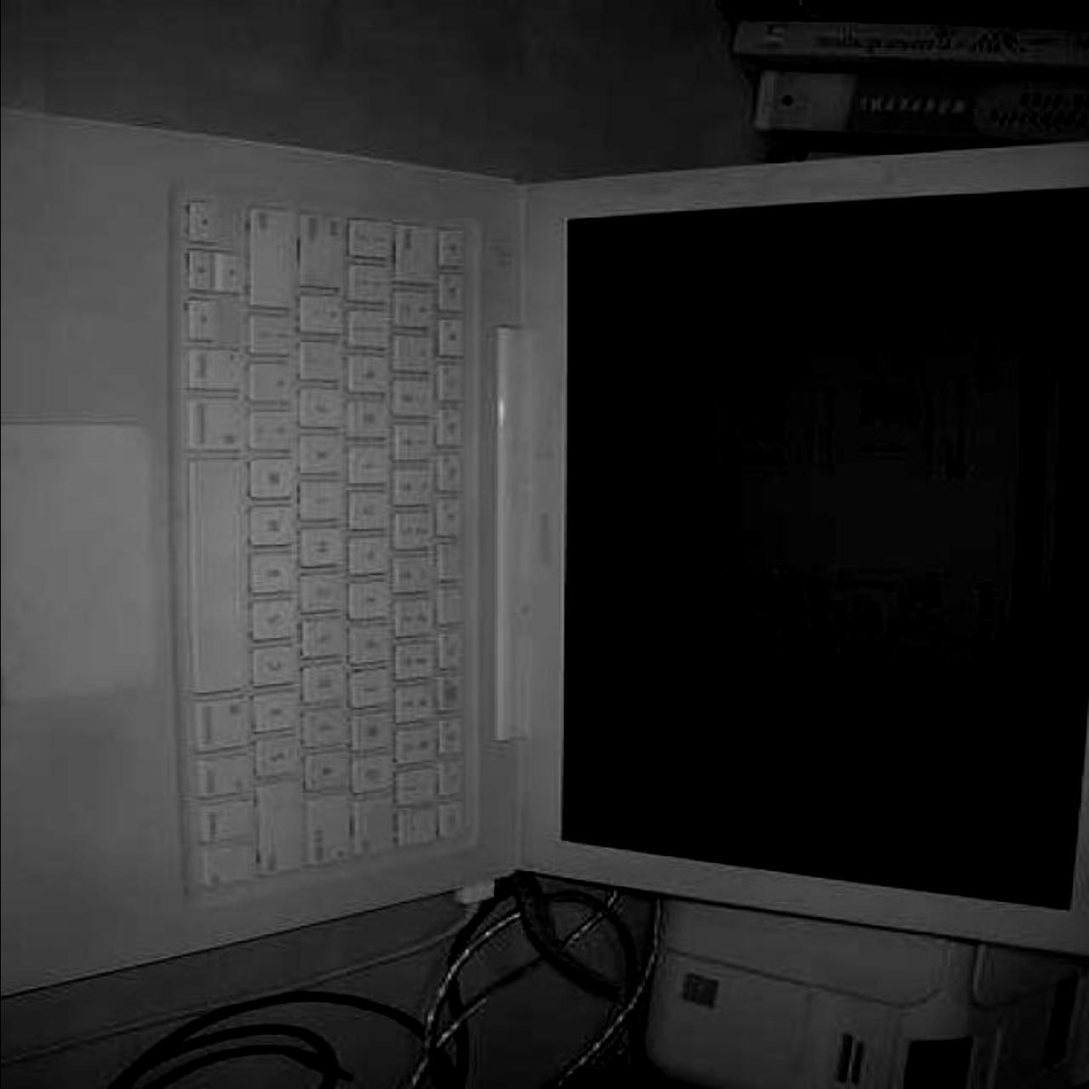laptop: (71, 74, 1058, 1069)
